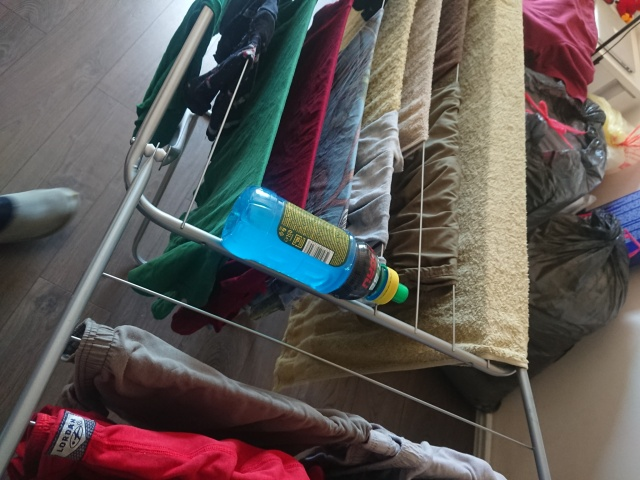Vindi Iso Sport Forest Strawberries 500mL: (219, 183, 410, 306)
